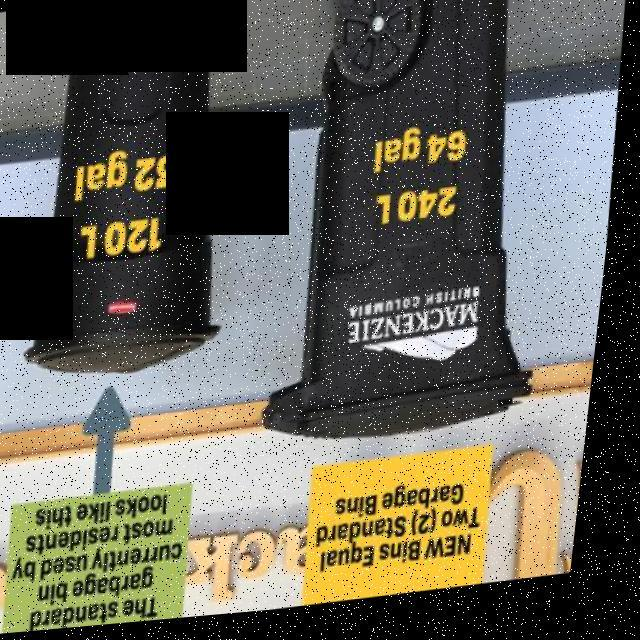bin: (243, 0, 587, 461), (0, 0, 269, 403)
